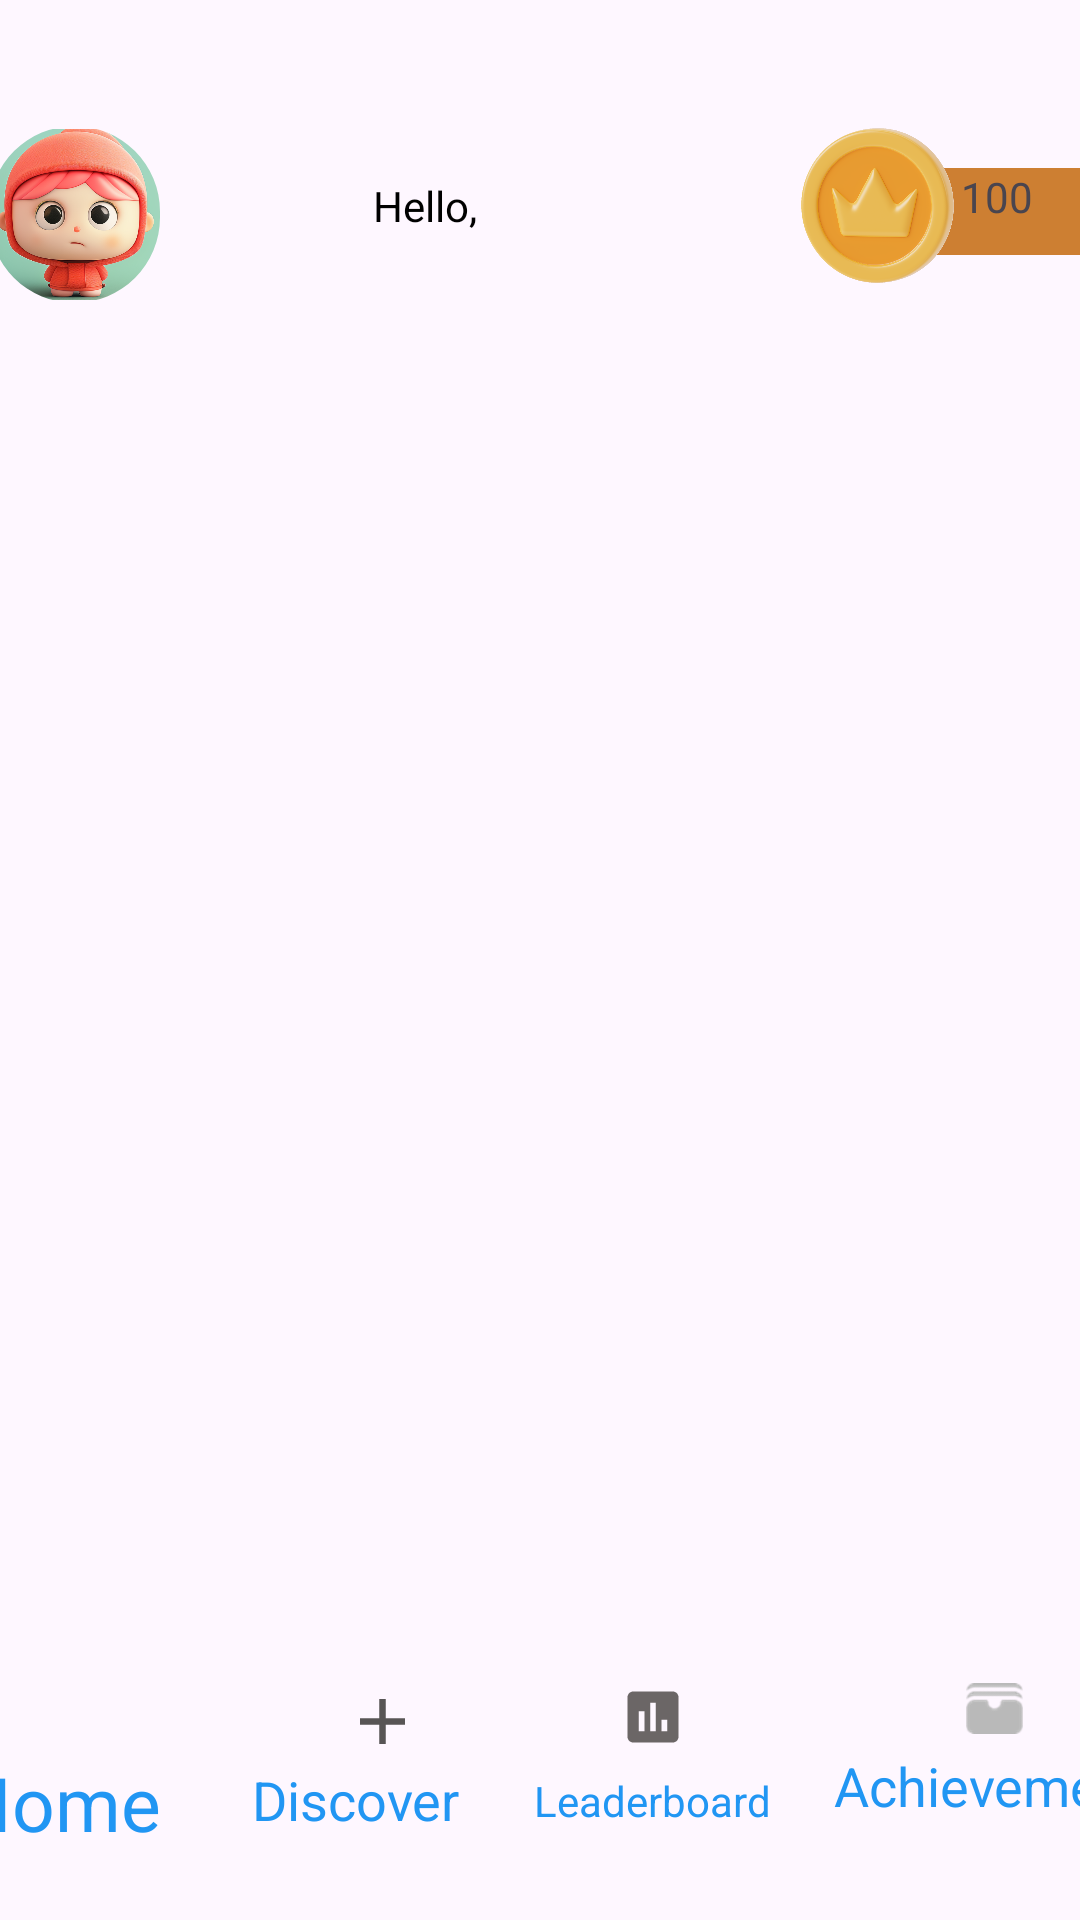

Icons on this 1080px x 1920px Android screen, each with the point to tap as point (x, y):
add: point (382, 1721)
insert chart: point (653, 1717)
